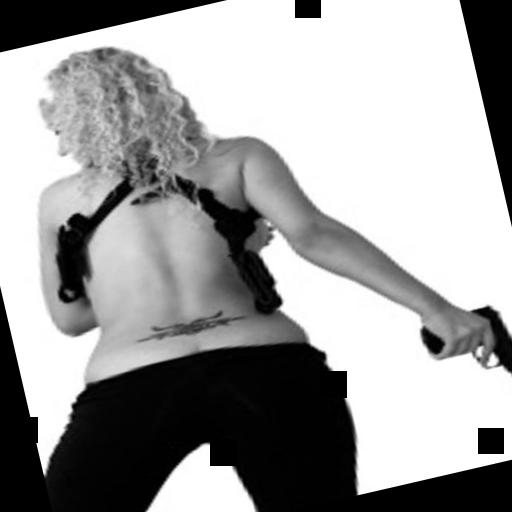Handgun: (411, 297, 512, 404)
